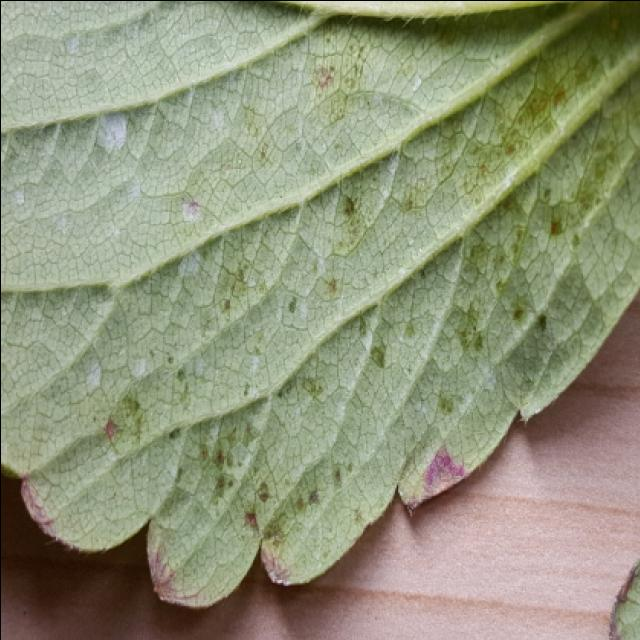Angular Leafspot: (23, 7, 640, 608)
